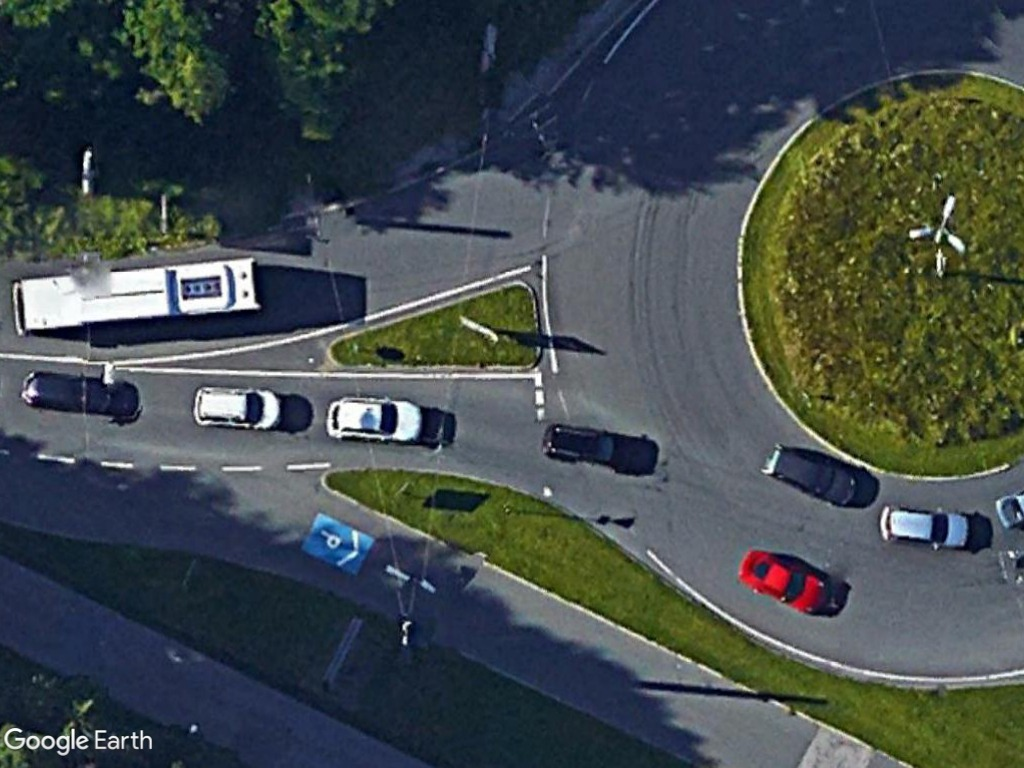bus: (8, 252, 262, 337)
car: (756, 438, 867, 512), (731, 547, 842, 619), (318, 392, 429, 448), (876, 499, 980, 556), (185, 381, 289, 433)
